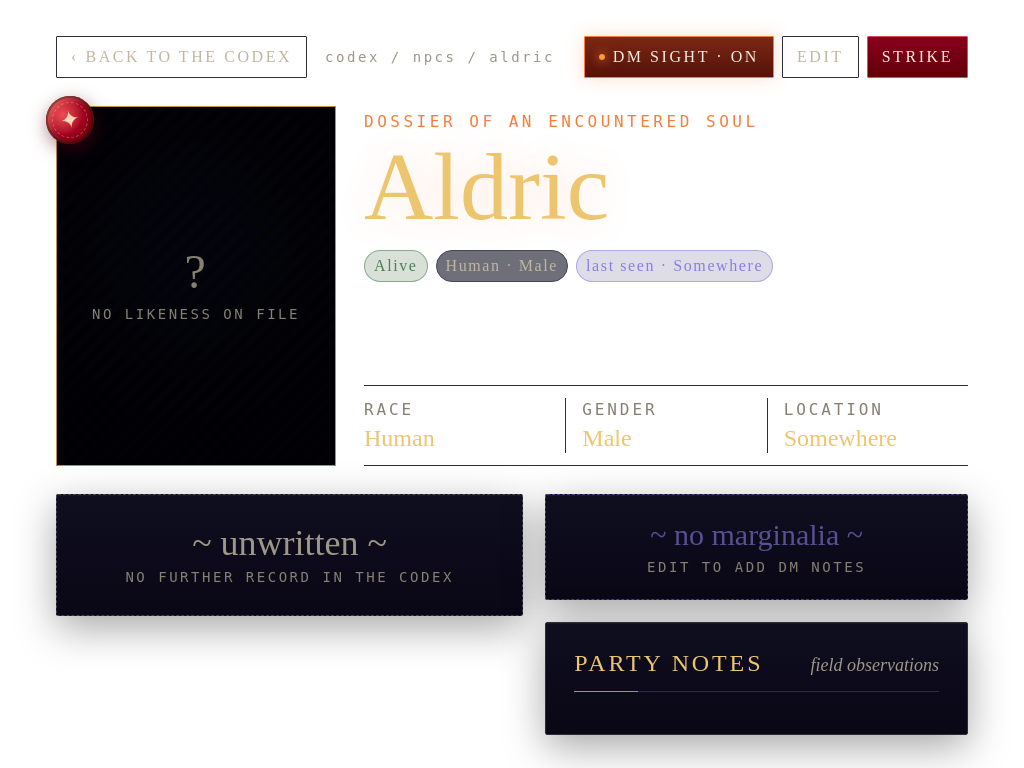
Test: NPC detail page — linked NPC list › linked NPC list can be filtered by name
Expected: the heading "Aldric" is shown, [364,144,609,230]
Click the button "Edit": (820, 57) [782,36,859,78]
(page scrolled)
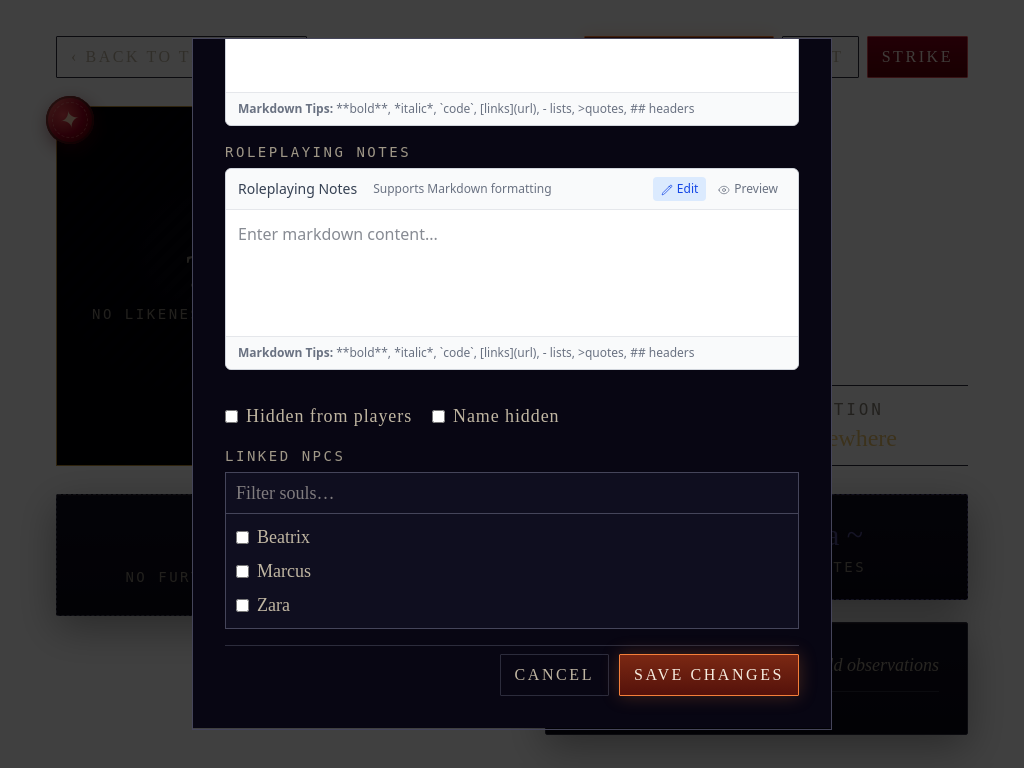
Expected: the text "Linked NPCs" is shown, [225,448,345,464]
In the field with placeholder "Filter souls…": (512, 493) [225,472,799,513], type "mar"
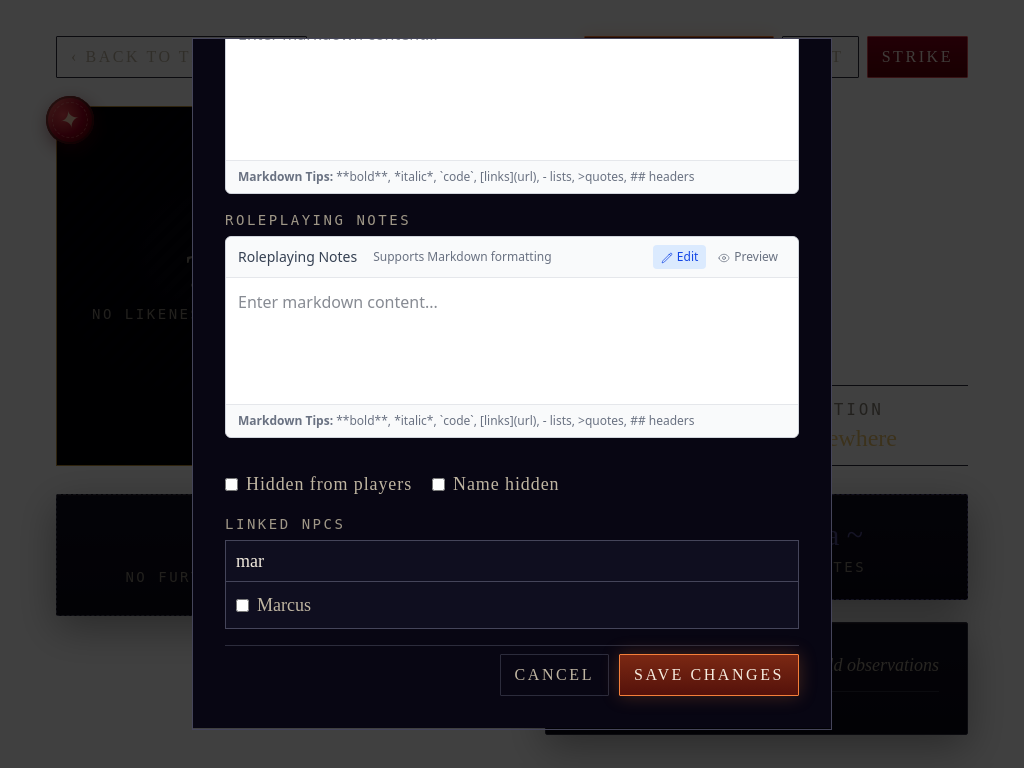
Expected: the checkbox labelled "Marcus" is shown, [236,599,249,612]
Expected: the text labelled "Zara" is gone
Expected: the text labelled "Beatrix" is gone
